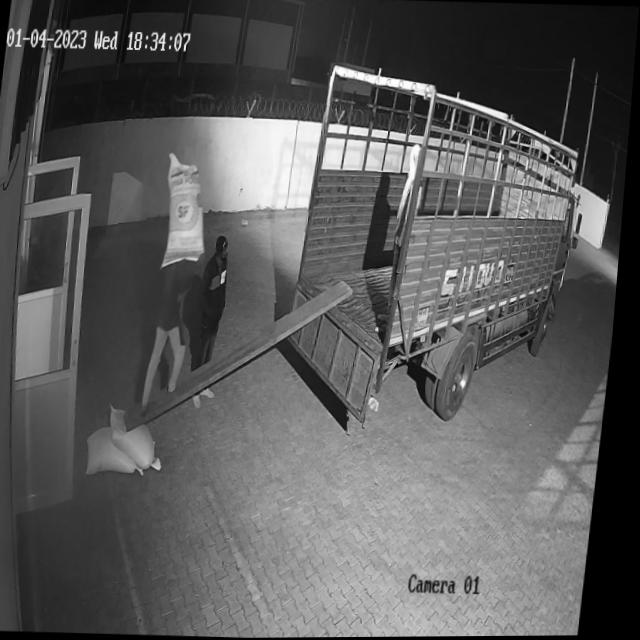sack: (161, 151, 218, 268), (110, 402, 175, 471), (90, 425, 157, 478)
